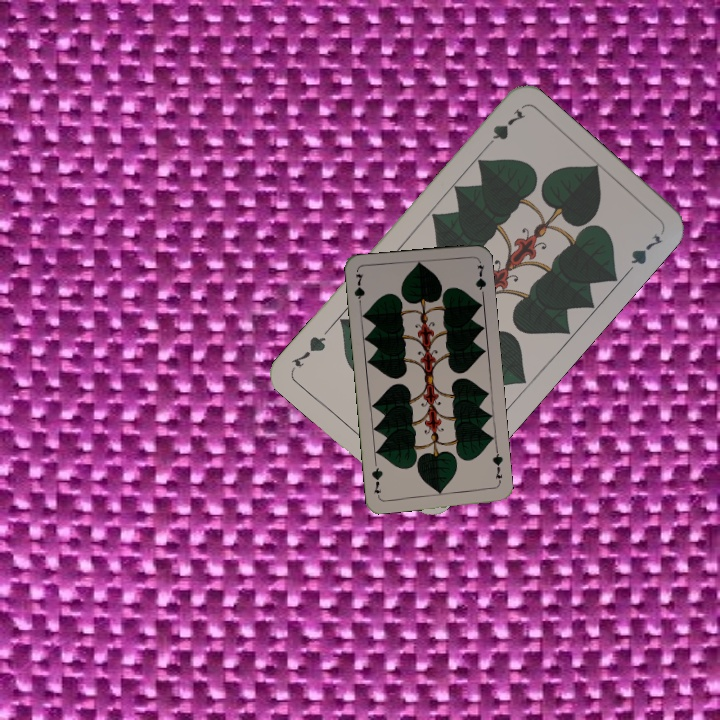G7: (479, 104, 528, 153), (350, 270, 368, 310), (489, 446, 505, 487)
